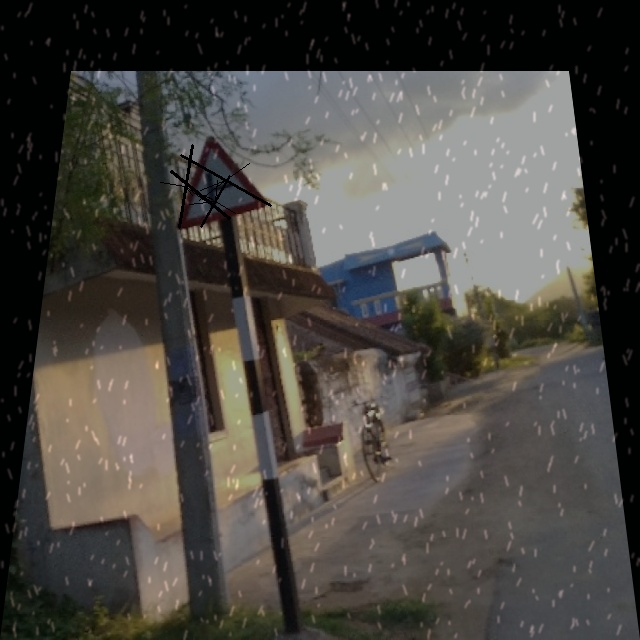Side_Road_Right: (167, 135, 271, 230)
